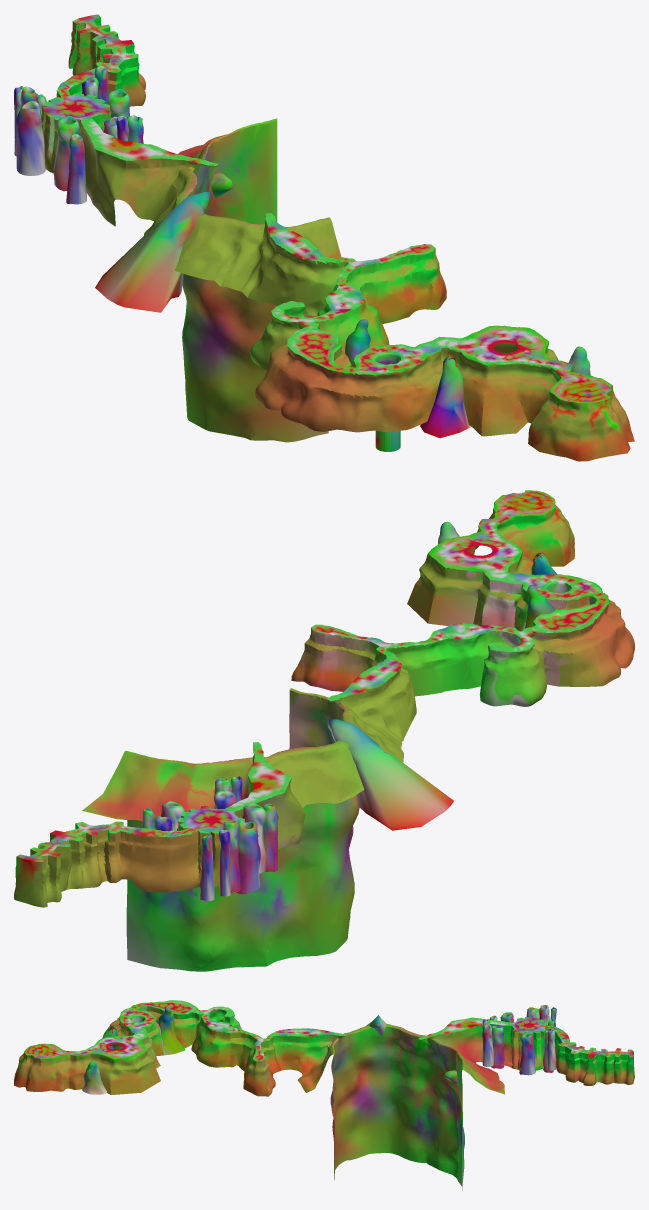
File: floor-01.fbx
3 renders of one model, top to bottom at view 1: azimuth 30°, elevation 25°; view 2: azimuth 150°, elevation 25°; view 3: azimuth 270°, elevation 25°, orthographic. The views are drawn at different scales.
Visible parts, largest first — view 1: Ground, Floor, rock.003, rock.001, pillar-vent.005, pillar-vent.004, pillar-vent.003, rock.002; view 2: Ground, Floor, rock.003, pillar-vent.005, pillar-vent.004, pillar-vent.008, pillar-vent.006, pillar-vent.003, pillar-vent.010; view 3: Ground, Floor, rock.002, pillar-vent.007, rock, pillar-vent, pillar-vent.002, pillar-vent.011.
Boxes of the visible parts, bbox=[...] form: Ground: bbox=[41, 17, 634, 461]; Floor: bbox=[42, 14, 612, 451]; rock.003: bbox=[95, 192, 210, 312]; rock.001: bbox=[420, 355, 471, 438]; pillar-vent.005: bbox=[16, 100, 45, 175]; pillar-vent.004: bbox=[66, 134, 86, 204]; pillar-vent.003: bbox=[53, 115, 79, 191]; rock.002: bbox=[345, 319, 370, 366]; Ground: bbox=[14, 503, 634, 971]; Floor: bbox=[17, 490, 608, 861]; rock.003: bbox=[328, 719, 453, 830]; pillar-vent.005: bbox=[236, 821, 260, 894]; pillar-vent.004: bbox=[263, 803, 278, 871]; pillar-vent.008: bbox=[200, 834, 214, 900]; pillar-vent.006: bbox=[219, 820, 240, 892]; pillar-vent.003: bbox=[242, 803, 266, 873]; pillar-vent.010: bbox=[218, 830, 230, 896]; Ground: bbox=[14, 1006, 634, 1190]; Floor: bbox=[24, 1000, 633, 1061]; rock.002: bbox=[158, 1007, 185, 1055]; pillar-vent.007: bbox=[519, 1032, 535, 1075]; rock: bbox=[82, 1061, 106, 1094]; pillar-vent: bbox=[491, 1025, 504, 1068]; pillar-vent.002: bbox=[482, 1024, 493, 1066]; pillar-vent.011: bbox=[547, 1029, 556, 1070].
Size of the model in its own units: 6191 by 5361 by 21156.
